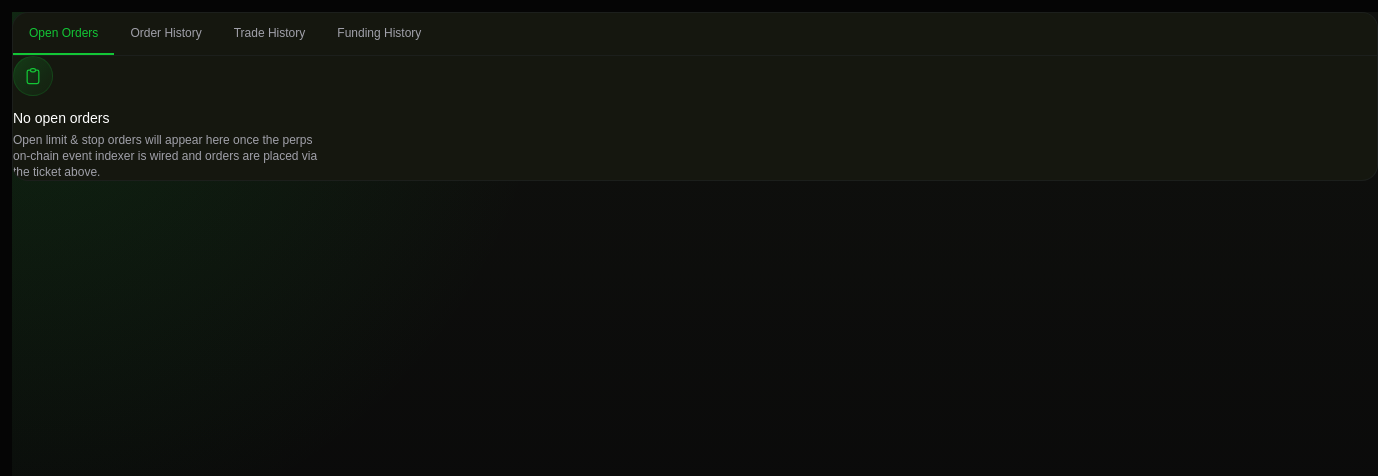
it: PerpsHistoryTabs › shows the order-history empty state on click without rendering fake rows
The width and height of the screenshot is (1378, 476).
Click the button "Order History" at (166, 34), box [114,13,218,55]
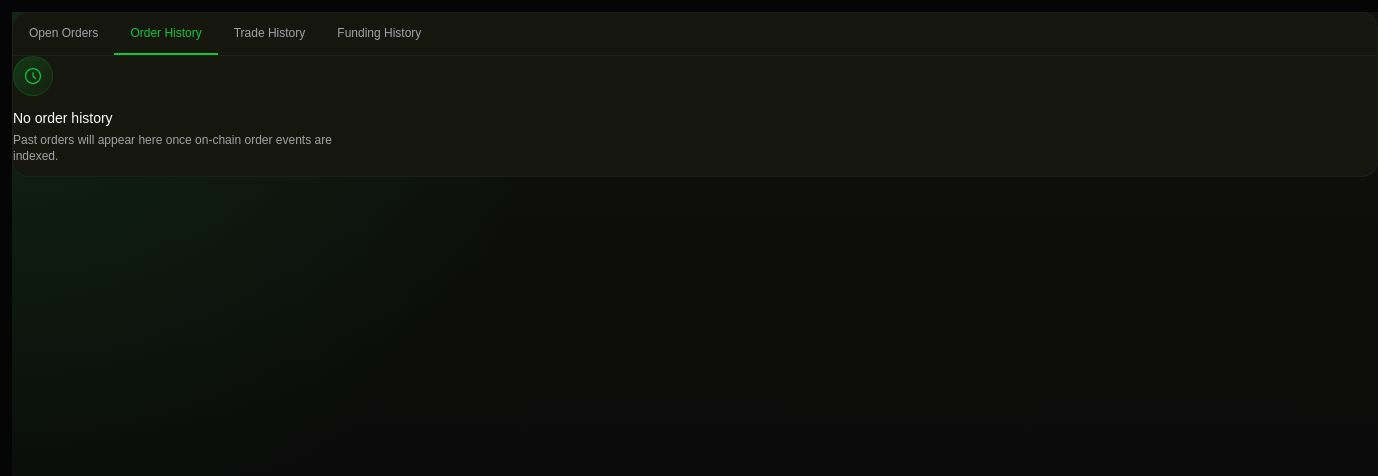
Result: the text "No order history" is shown at [13,110,113,126]
